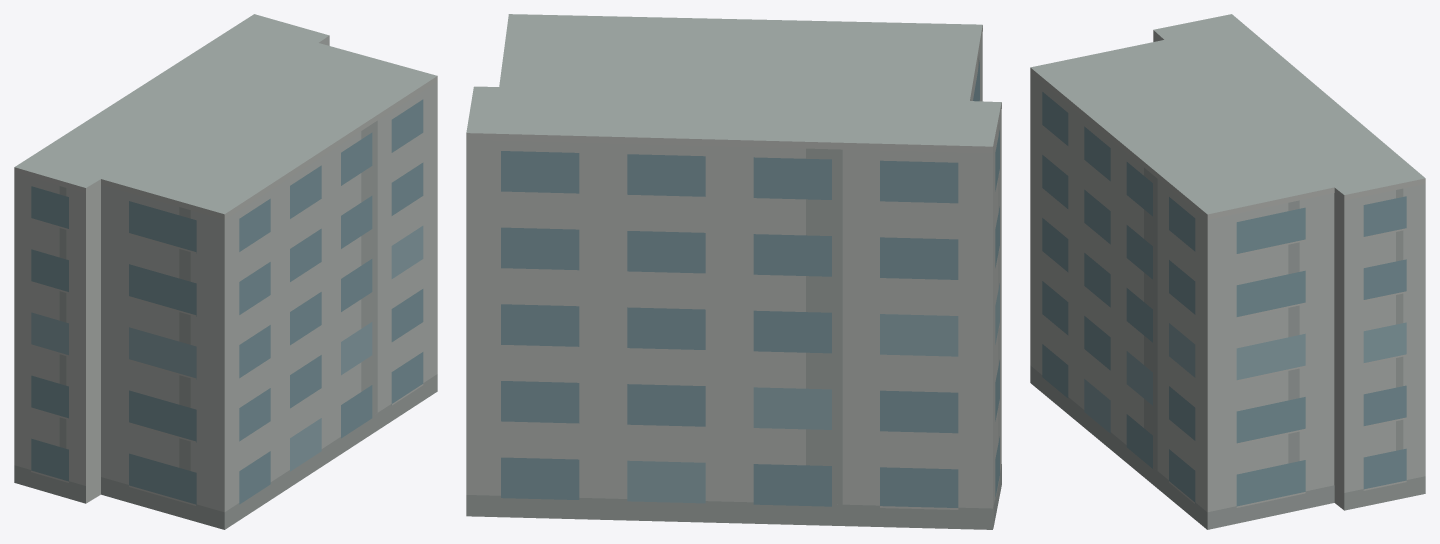
Rendered from survey-upis-32986461.glb.
3 renders of one model, left to right at view 1: azimuth 30°, elevation 25°; view 2: azimuth 150°, elevation 25°; view 3: azimuth 270°, elevation 25°, orthographic. The views are drawn at different scales.
Parts seen in each view (by area): view 1: survey-upis-32986461.tmp; view 2: survey-upis-32986461.tmp; view 3: survey-upis-32986461.tmp.
Boxes of the visible parts, x1,y1,x2,y2 form: survey-upis-32986461.tmp: [14, 14, 437, 529]; survey-upis-32986461.tmp: [466, 14, 1001, 529]; survey-upis-32986461.tmp: [1030, 14, 1425, 529].
Size of the model in its own units: 18.82 by 13.8 by 15.69.
